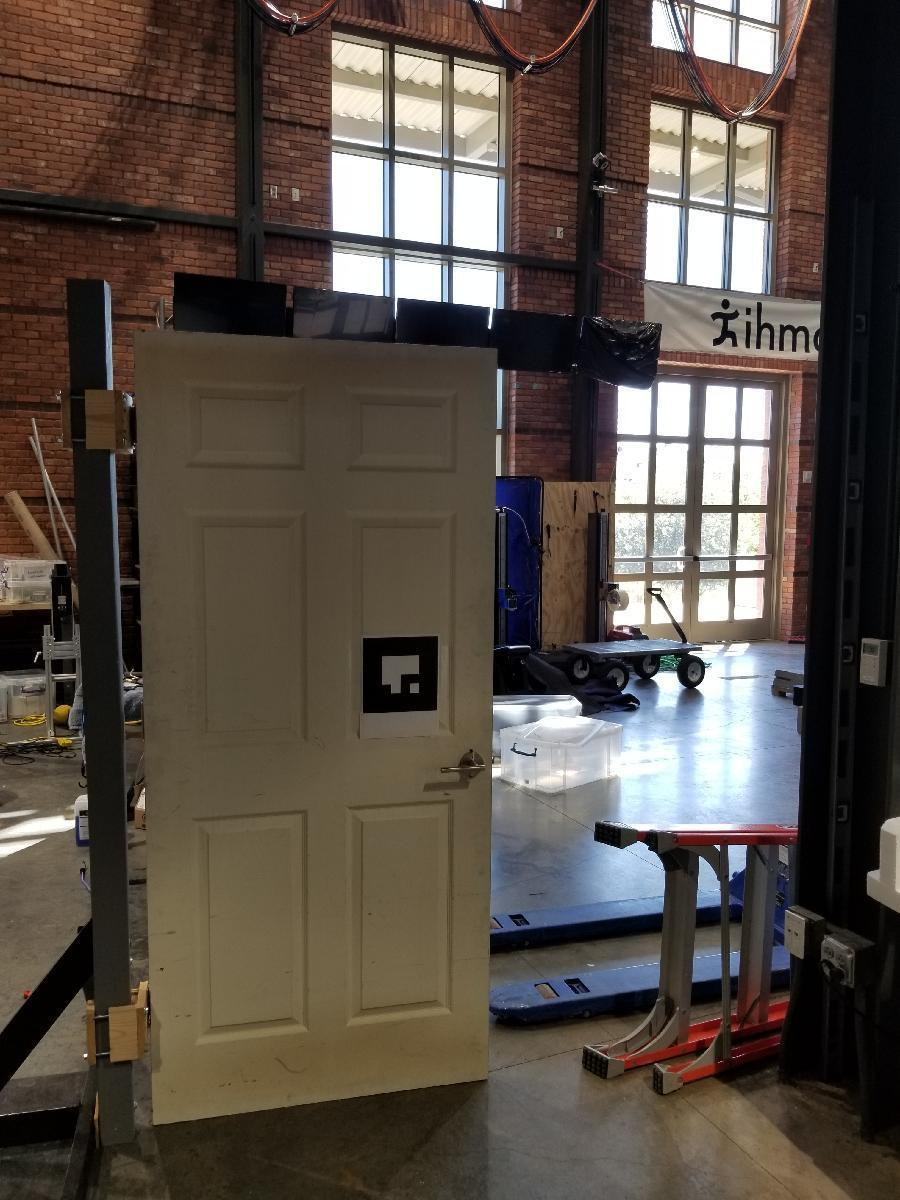door: (133, 326, 503, 1094)
handle: (432, 749, 495, 785)
